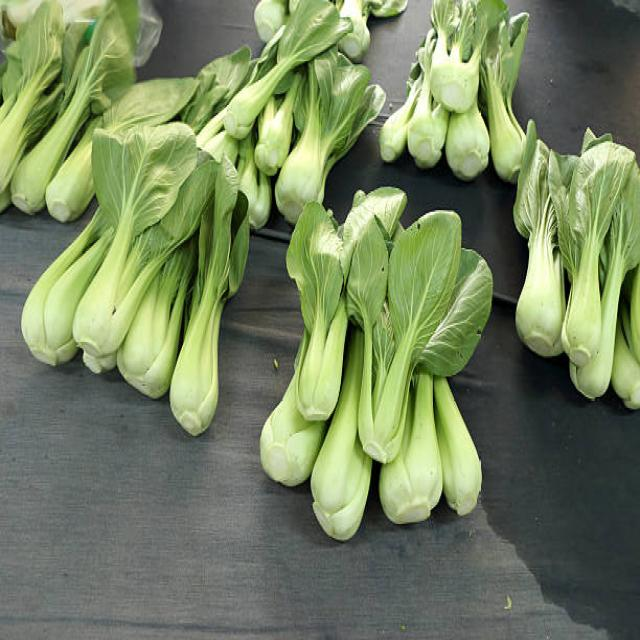bok choy: (538, 156, 634, 392), (362, 231, 436, 471), (187, 191, 250, 447), (0, 61, 79, 221), (90, 127, 142, 355), (298, 228, 340, 430)
